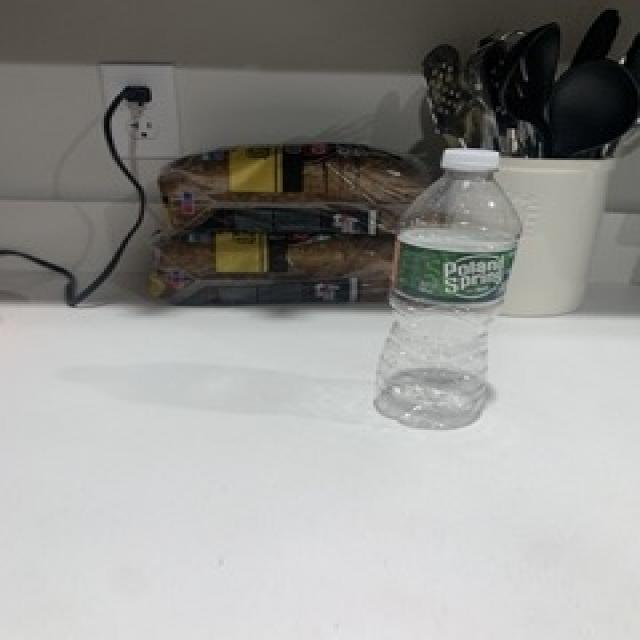water_bottle: (370, 148, 526, 429)
